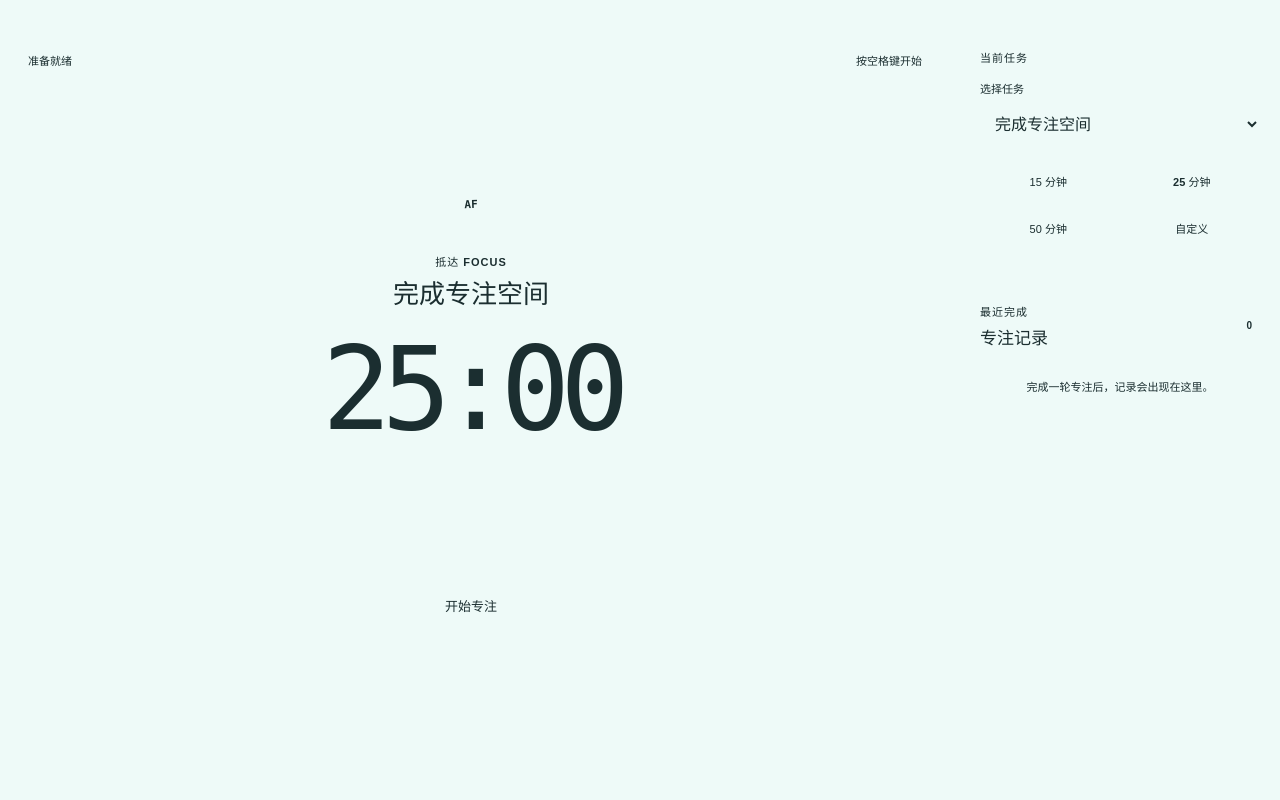
Test: FocusWorkspace › keeps space key behavior inside task inputs
Press Space in the dropdown labelled "选择任务", box [980,103,1260,145]
Expected: the text "准备就绪" is shown, [28,54,72,66]
Expected: the button "开始专注" is enabled, [413,584,529,628]
Click the button "自定义": coordinates (1192, 228) [1124,208,1260,248]
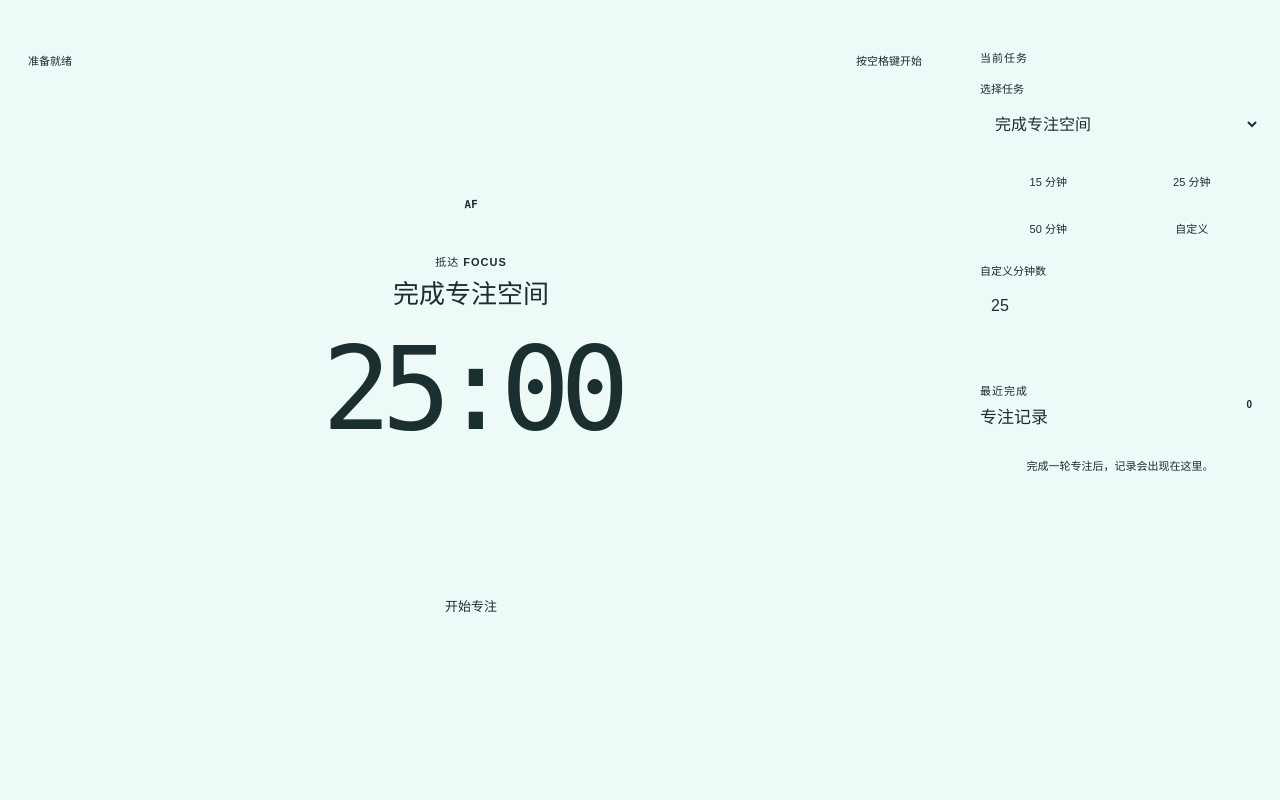
Replace the text in the number field labelled "自定义分钟数" with "181": coordinates (1120, 306) [980,285,1260,327]
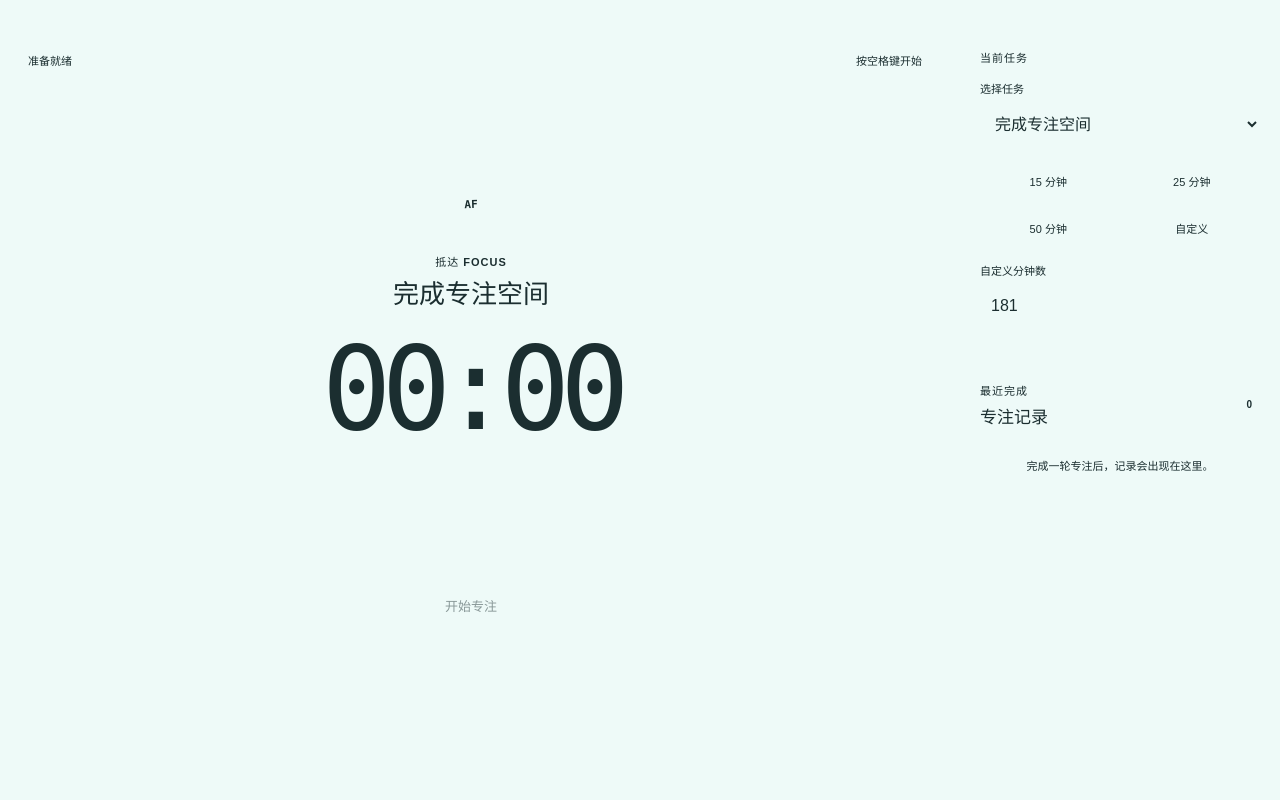
Now the button "开始专注" is disabled, box [413,584,529,628]
